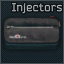Injector case: (0, 0, 64, 64)
